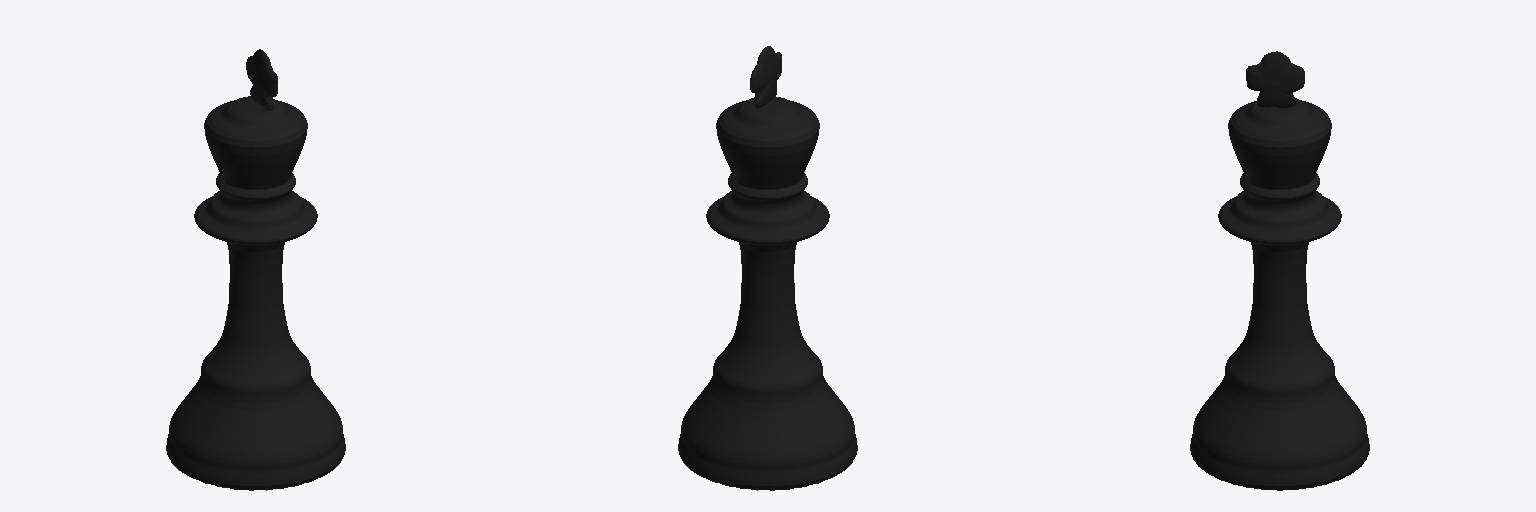
The model's file is kingbk.obj.
3 views of the same model, side by side, from view 1: azimuth 30°, elevation 25°; view 2: azimuth 150°, elevation 25°; view 3: azimuth 270°, elevation 25° (orthographic).
Visible parts, largest first — view 1: Cylinder; view 2: Cylinder; view 3: Cylinder.
Boxes of the visible parts, x1=… form: Cylinder: x1=166, y1=49, x2=345, y2=490; Cylinder: x1=678, y1=46, x2=857, y2=490; Cylinder: x1=1190, y1=51, x2=1369, y2=490.
Size of the model in its own units: 1.98 by 5.03 by 1.98.